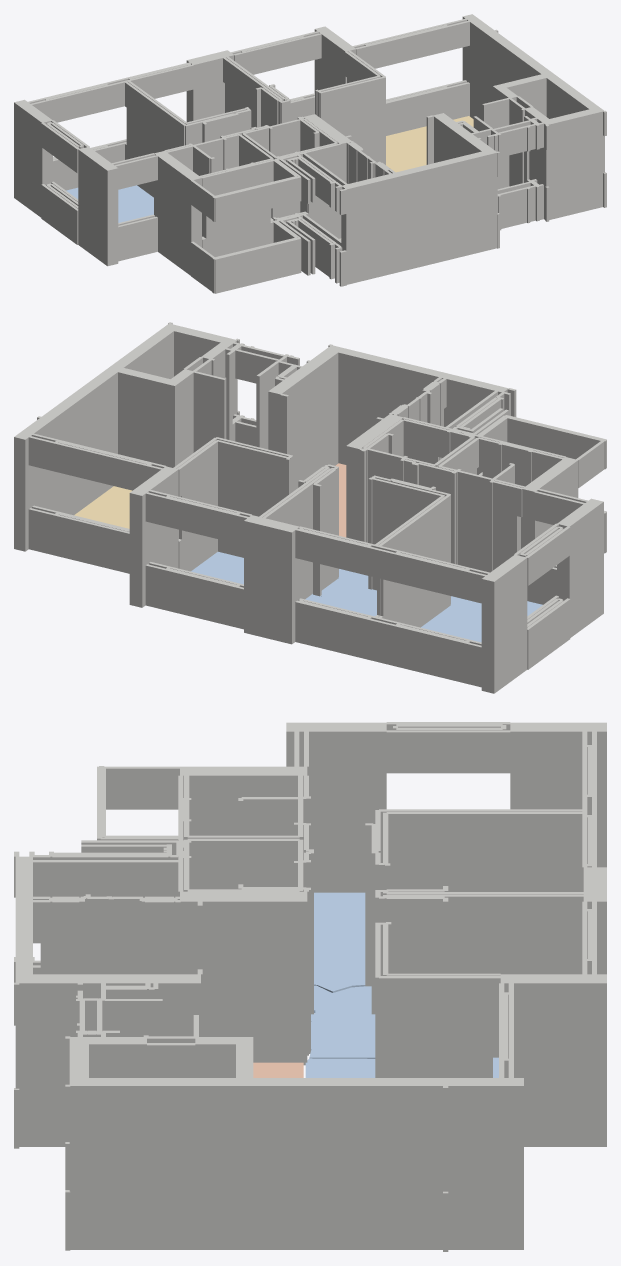
3 renders of one model, top to bottom at view 1: azimuth 30°, elevation 25°; view 2: azimuth 150°, elevation 25°; view 3: azimuth 270°, elevation 25°, orthographic. The views are drawn at different scales.
Parts seen in each view (by area): view 1: walls, room:living:3, room:bedroom:0; view 2: walls, room:bedroom:2, room:bedroom:0, room:living:3, room:bedroom:1, room:kitchen:5; view 3: walls, room:bedroom:0, room:bedroom:2, room:bedroom:1, room:kitchen:5.
Part boxes in pixels (x1,y1,x2,y2): walls: (14, 14, 606, 293); room:living:3: (386, 116, 473, 172); room:bedroom:0: (66, 185, 153, 222); walls: (14, 322, 606, 693); room:bedroom:2: (305, 569, 376, 616); room:bedroom:0: (421, 596, 542, 642); room:living:3: (74, 486, 132, 528); room:bedroom:1: (191, 551, 243, 584); room:kitchen:5: (335, 463, 346, 537); walls: (14, 722, 606, 1251); room:bedroom:0: (314, 892, 365, 992); room:bedroom:2: (309, 985, 375, 1058); room:bedroom:1: (305, 1057, 498, 1077); room:kitchen:5: (253, 1062, 303, 1077).
Bounding box in the file's own units: 13.41 × 2.8 × 9.18.
